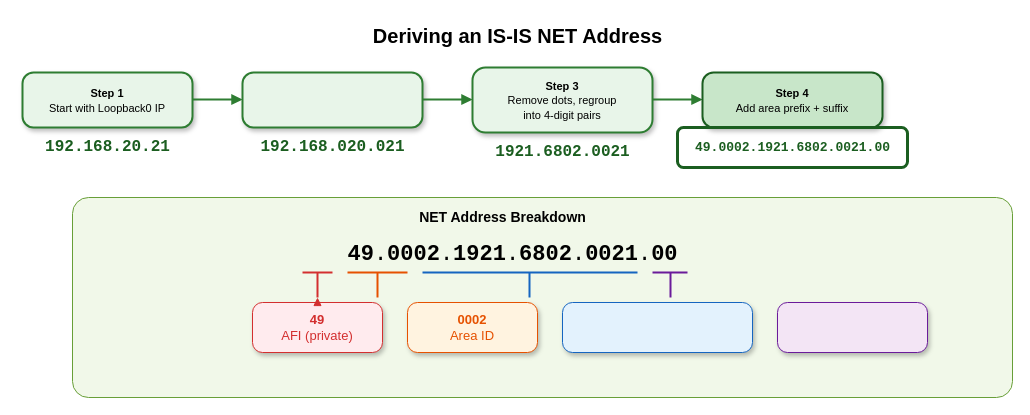
This 1030x415 diagram has some shape labels left out. Here are the shapes that lost their labels. From the top down, the centre of each, then its label:
pixel 333 101: Step 2 Pad each octet to 3 digits
pixel 658 329: 1921.6802.0021 System ID (from IP)
pixel 853 329: 00 SEL (always 00)
